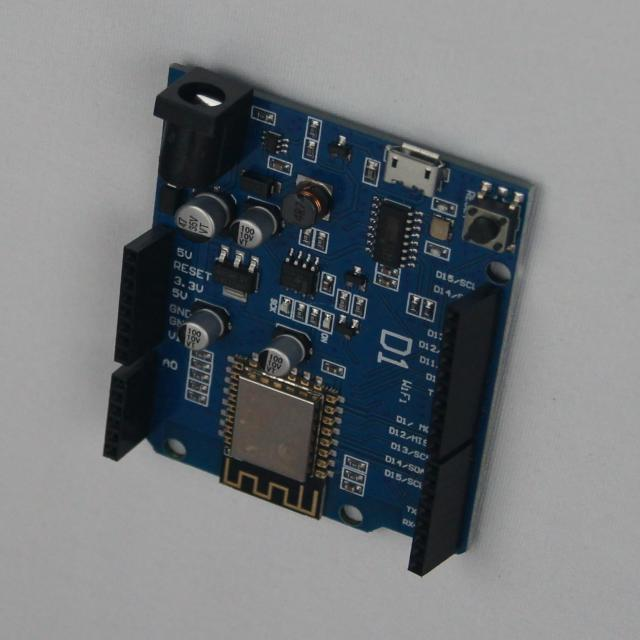Arduino Uno WiFi Shield: (104, 65, 535, 576)
